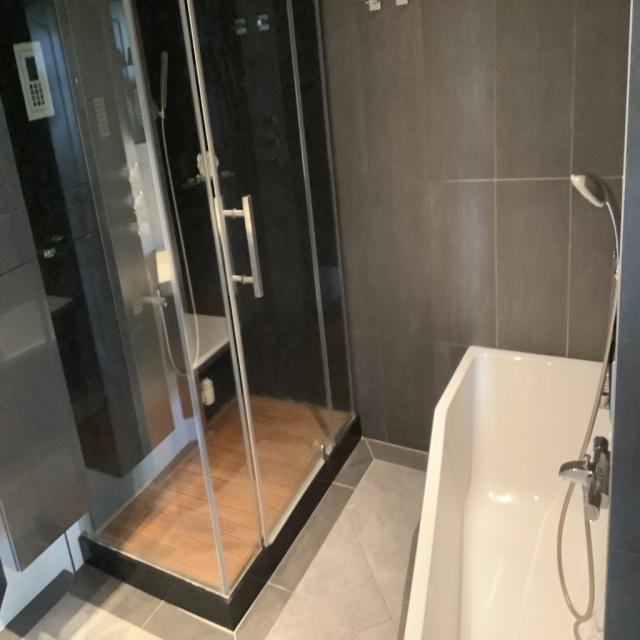bath: (403, 343, 615, 640)
douche: (0, 0, 363, 633)
